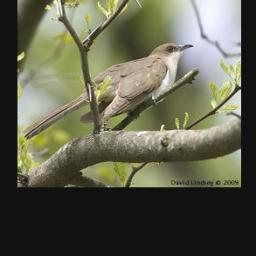Cuckoo: (20, 41, 191, 140)
